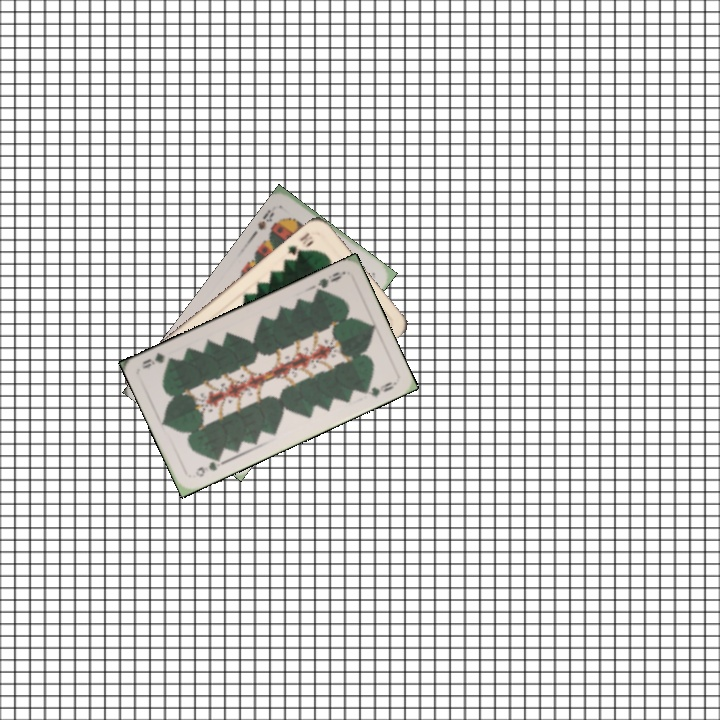G10: (283, 228, 316, 258)
G9: (311, 267, 347, 297), (191, 453, 224, 480)
S8: (254, 205, 277, 233)
